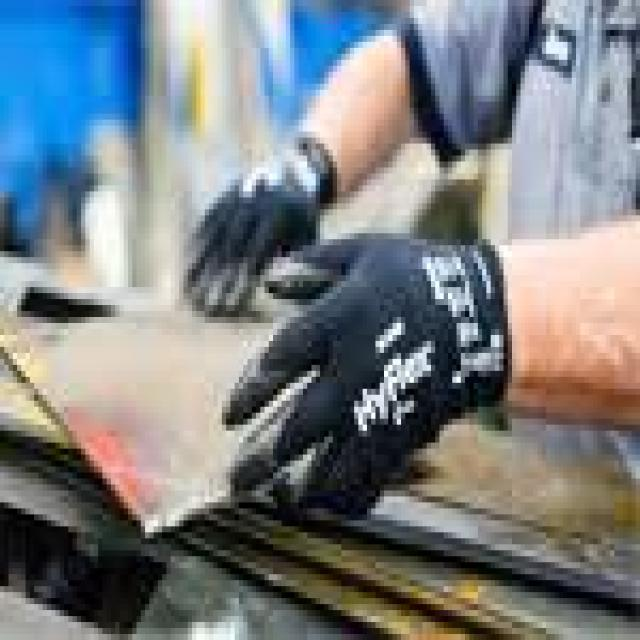Gloves: (224, 237, 510, 513), (185, 138, 335, 314)
